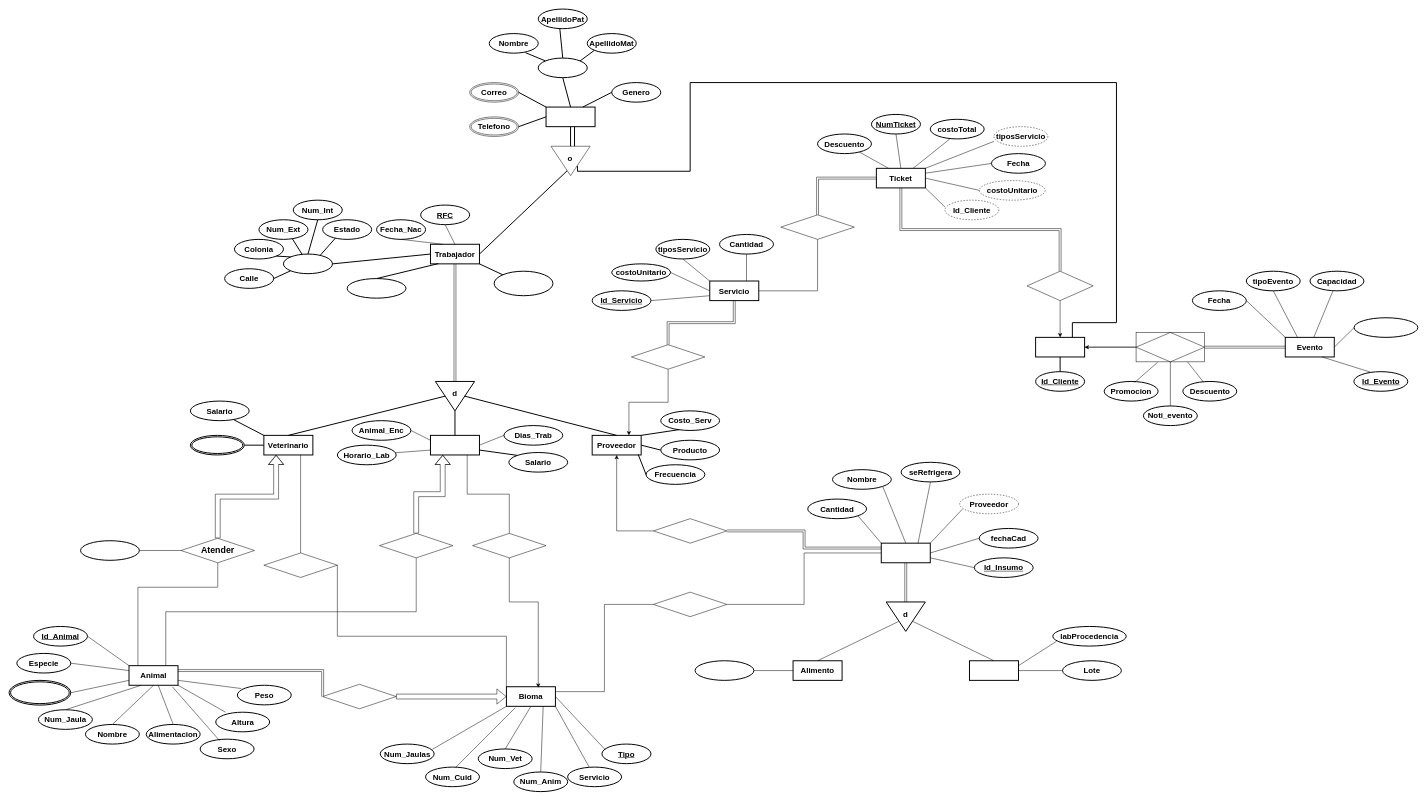
This 1426x800 diagram has some shape labels left out. The centre of each missing label's shape, as x and y in pixels:
"Asignar" belongs at point 1060,286.
"Cliente" belongs at point 1060,347.
"Cuidador" belongs at point 455,445.
"Cuidar" belongs at point 416,545.
"Dar" belongs at point 668,356.
"Direccion" belongs at point 308,263.
"Distribuir" belongs at point 690,604.
"Especialidad" belongs at point 217,445.
"FechaFin_Con" belongs at point 523,283.
"FechaIn_Con" belongs at point 376,288.
"indicacionMed" belongs at point 39,692.
"Insumo" belongs at point 906,552.
"Laborar" belongs at point 509,545.
"listaAsistentes" belongs at point 1385,327.
"Medicina" belongs at point 994,670.
"mismoBioma" belongs at point 110,550.
"NombreC" belongs at point 563,67.
"Notificar" belongs at point 1170,347.
"Persona" belongs at point 570,116.
"Pertenecer" belongs at point 359,696.
"Proveer" belongs at point 690,530.
"Registrar" belongs at point 817,226.
"tipoAlimento" belongs at point 724,670.
"Trabajar" belongs at point 300,564.
